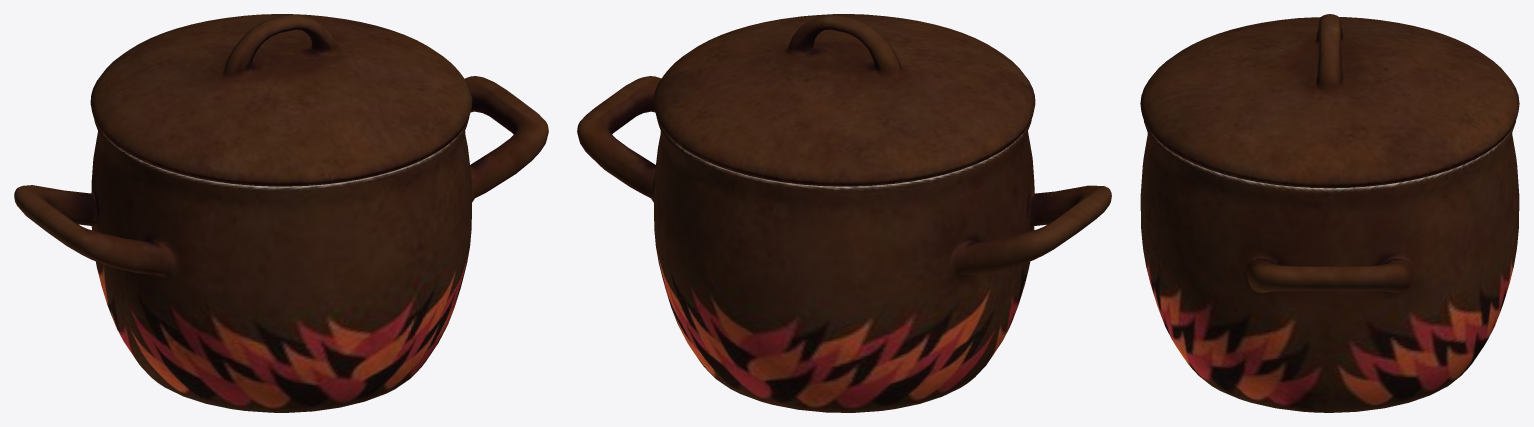
File: pot_enamel_01.glb
3 views of the same model, side by side, from view 1: azimuth 30°, elevation 25°; view 2: azimuth 150°, elevation 25°; view 3: azimuth 270°, elevation 25° (orthographic).
Visible parts, largest first — view 1: pot_enamel_01_base, pot_enamel_01_lid; view 2: pot_enamel_01_base, pot_enamel_01_lid; view 3: pot_enamel_01_base, pot_enamel_01_lid.
Boxes of the visible parts, box(x1,y1,x2,y2) form: pot_enamel_01_base: box(14, 76, 548, 412); pot_enamel_01_lid: box(90, 14, 472, 186); pot_enamel_01_base: box(577, 76, 1111, 412); pot_enamel_01_lid: box(653, 14, 1035, 186); pot_enamel_01_base: box(1140, 121, 1519, 412); pot_enamel_01_lid: box(1140, 14, 1519, 188).
Size of the model in its own units: 0.2627 by 0.1782 by 0.1805.
1 material, 1 textured.
